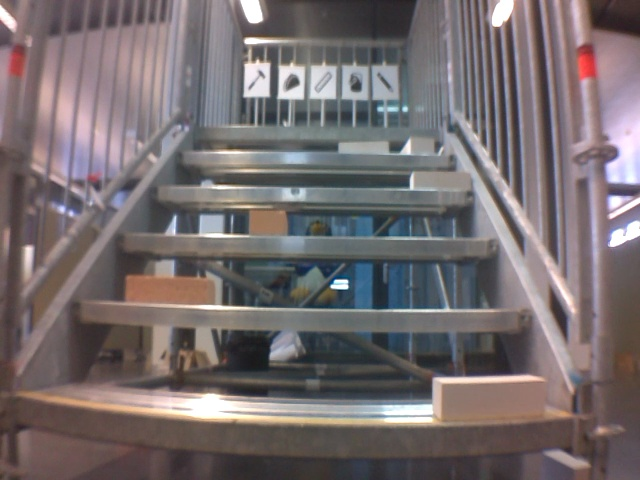brick: (434, 376, 547, 421), (125, 276, 215, 305), (408, 171, 470, 189), (249, 210, 288, 236), (339, 141, 387, 154), (403, 137, 433, 154)
bucket: (345, 70, 367, 93)
edge: (14, 397, 573, 457), (74, 302, 531, 332), (116, 234, 501, 256), (152, 187, 473, 204), (175, 151, 455, 168), (196, 126, 443, 138)
hammer: (245, 67, 267, 94)
pencil: (375, 69, 397, 96)
ruler: (314, 69, 336, 96)
stairs: (1, 1, 618, 476)
steps: (10, 123, 577, 465)
taco: (281, 69, 302, 95)
